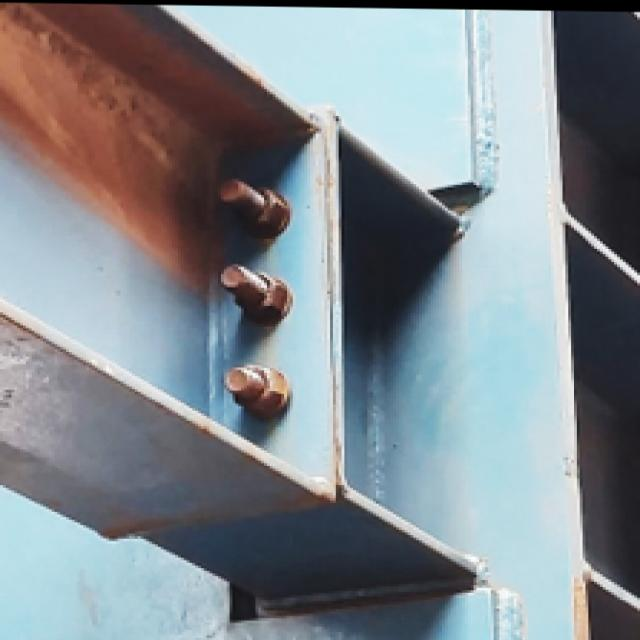Rusty bolt: (209, 263, 290, 324), (228, 362, 286, 415), (239, 179, 288, 234)
